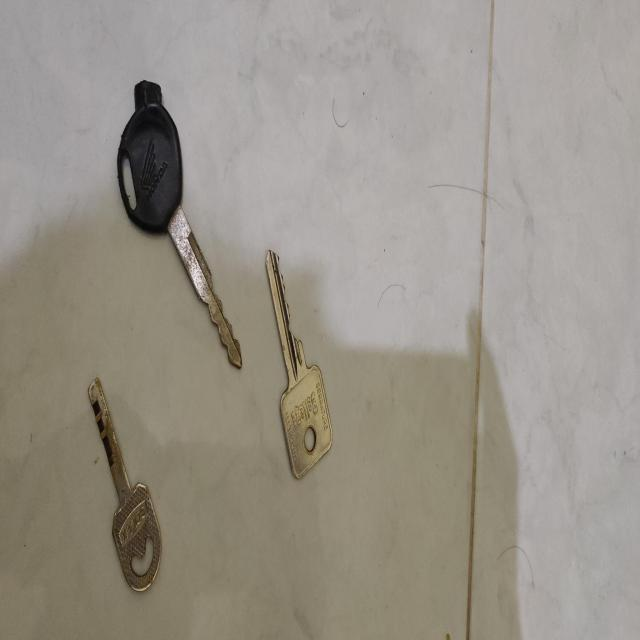kunci_kos: (262, 249, 336, 487)
kunci_motor: (117, 73, 249, 378)
kunci_pagar: (85, 371, 165, 606)
